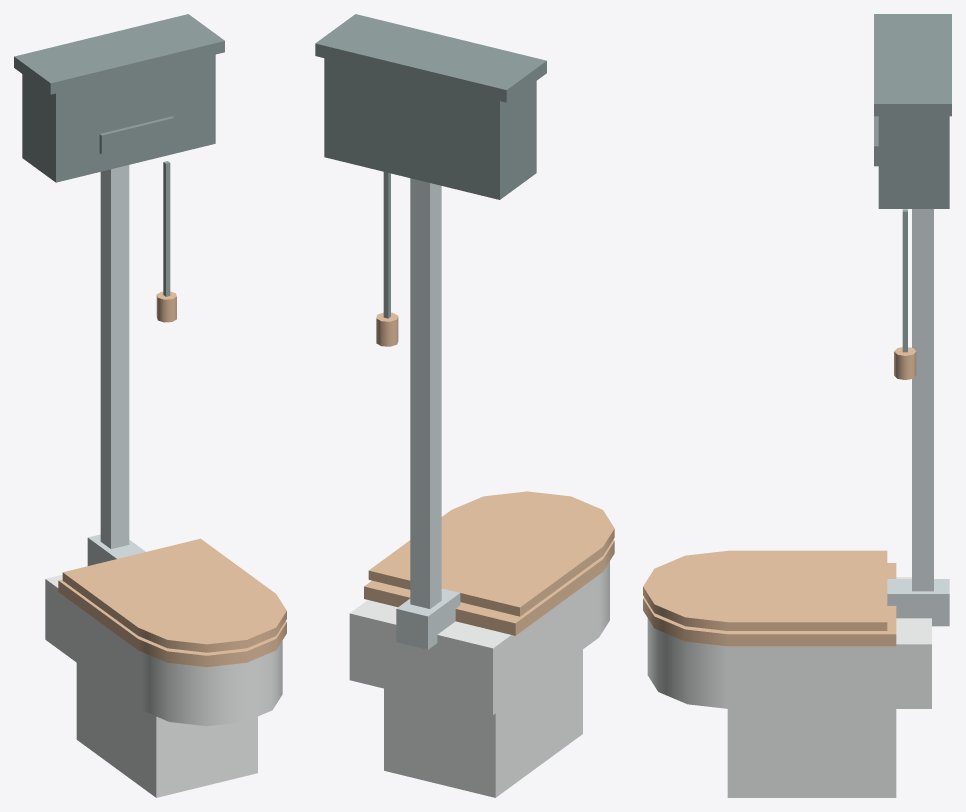
Rendered from toiletHighCistern.glb.
The picture shows the model from 3 angles, left to right: view 1: azimuth 30°, elevation 25°; view 2: azimuth 150°, elevation 25°; view 3: azimuth 270°, elevation 25°; orthographic projection. The views are drawn at different scales.
Parts seen in each view (by area): view 1: toiletHighCistern, anim:lid; view 2: toiletHighCistern, anim:lid; view 3: toiletHighCistern, anim:lid.
Part boxes in pixels (<box>): toiletHighCistern: <box>14,14,286,797</box>; anim:lid: <box>62,538,286,652</box>; toiletHighCistern: <box>315,14,614,797</box>; anim:lid: <box>368,491,614,616</box>; toiletHighCistern: <box>643,14,951,797</box>; anim:lid: <box>643,550,887,630</box>.
Size of the model in its own units: 0.24 by 0.885 by 0.3475.
